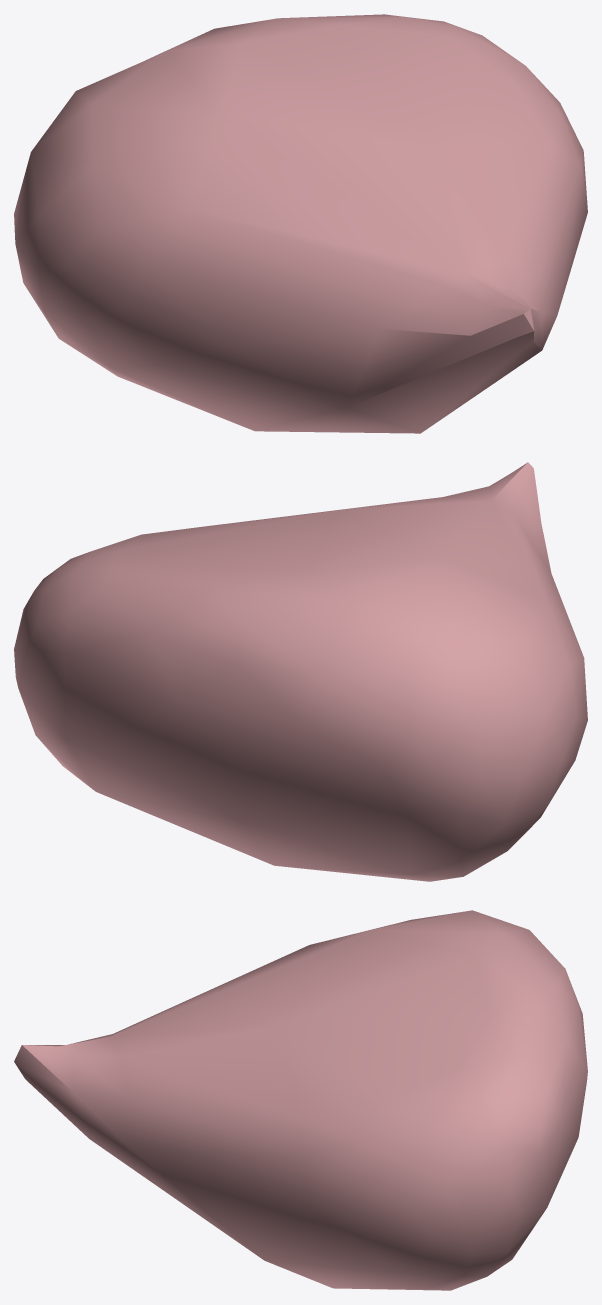
The model's file is fma15900_fj3149.glb.
3 views of the same model, one above another, from view 1: azimuth 30°, elevation 25°; view 2: azimuth 150°, elevation 25°; view 3: azimuth 270°, elevation 25° (orthographic). The views are drawn at different scales.
Parts seen in each view (by area): view 1: FMA15900_FJ3149; view 2: FMA15900_FJ3149; view 3: FMA15900_FJ3149.
Boxes of the visible parts, x1,y1,x2,y2 form: FMA15900_FJ3149: (14,14,587,433); FMA15900_FJ3149: (14,462,587,881); FMA15900_FJ3149: (14,910,587,1290).
Bounding box in the file's own units: 0.0668 × 0.0403 × 0.0717.
